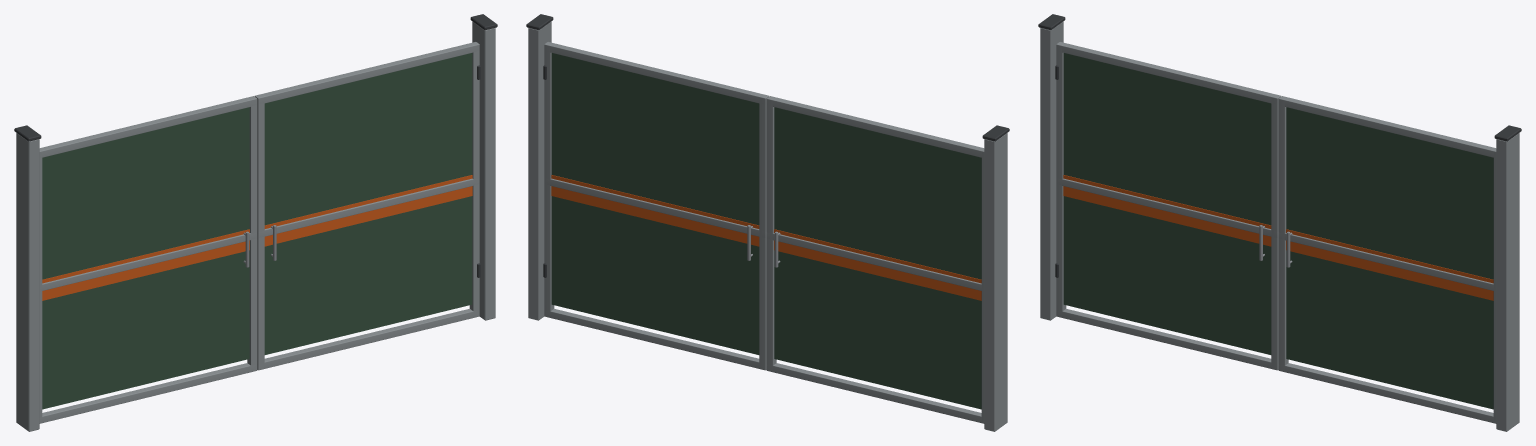
Rendered from prop_door_site_gate_w400_h240.glb.
The picture shows the model from 3 angles, left to right: view 1: azimuth 30°, elevation 25°; view 2: azimuth 150°, elevation 25°; view 3: azimuth 330°, elevation 25°; orthographic projection.
Parts seen in each view (by area): view 1: LeafMesh2, LeafMesh, Frame; view 2: LeafMesh2, LeafMesh, Frame; view 3: LeafMesh, LeafMesh2, Frame.
Boxes of the visible parts, x1,y1,x2,y2 form: LeafMesh2: (254, 42, 479, 370); LeafMesh: (39, 96, 257, 423); Frame: (14, 14, 497, 431); LeafMesh2: (544, 42, 769, 370); LeafMesh: (766, 96, 984, 423); Frame: (526, 14, 1009, 431); LeafMesh: (1056, 42, 1281, 370); LeafMesh2: (1278, 96, 1496, 423); Frame: (1038, 14, 1521, 431).
Size of what is drawn, in the model's own units: 4.22 by 2.53 by 0.224.
